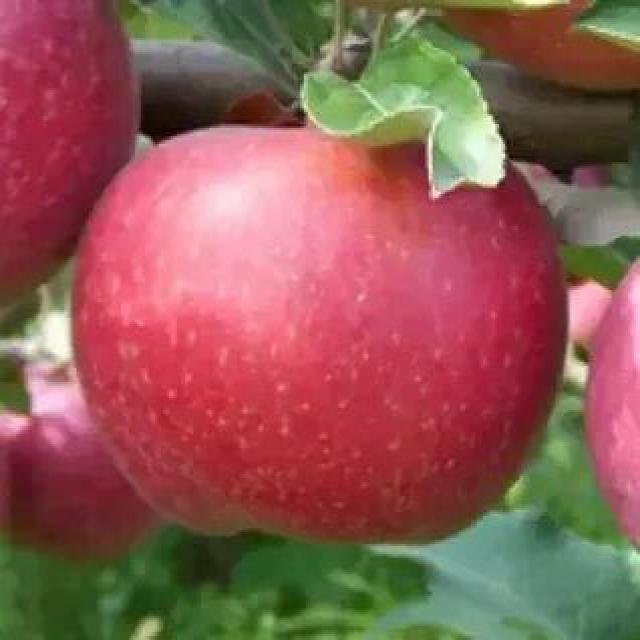Fresh Apple: (77, 123, 553, 582)
